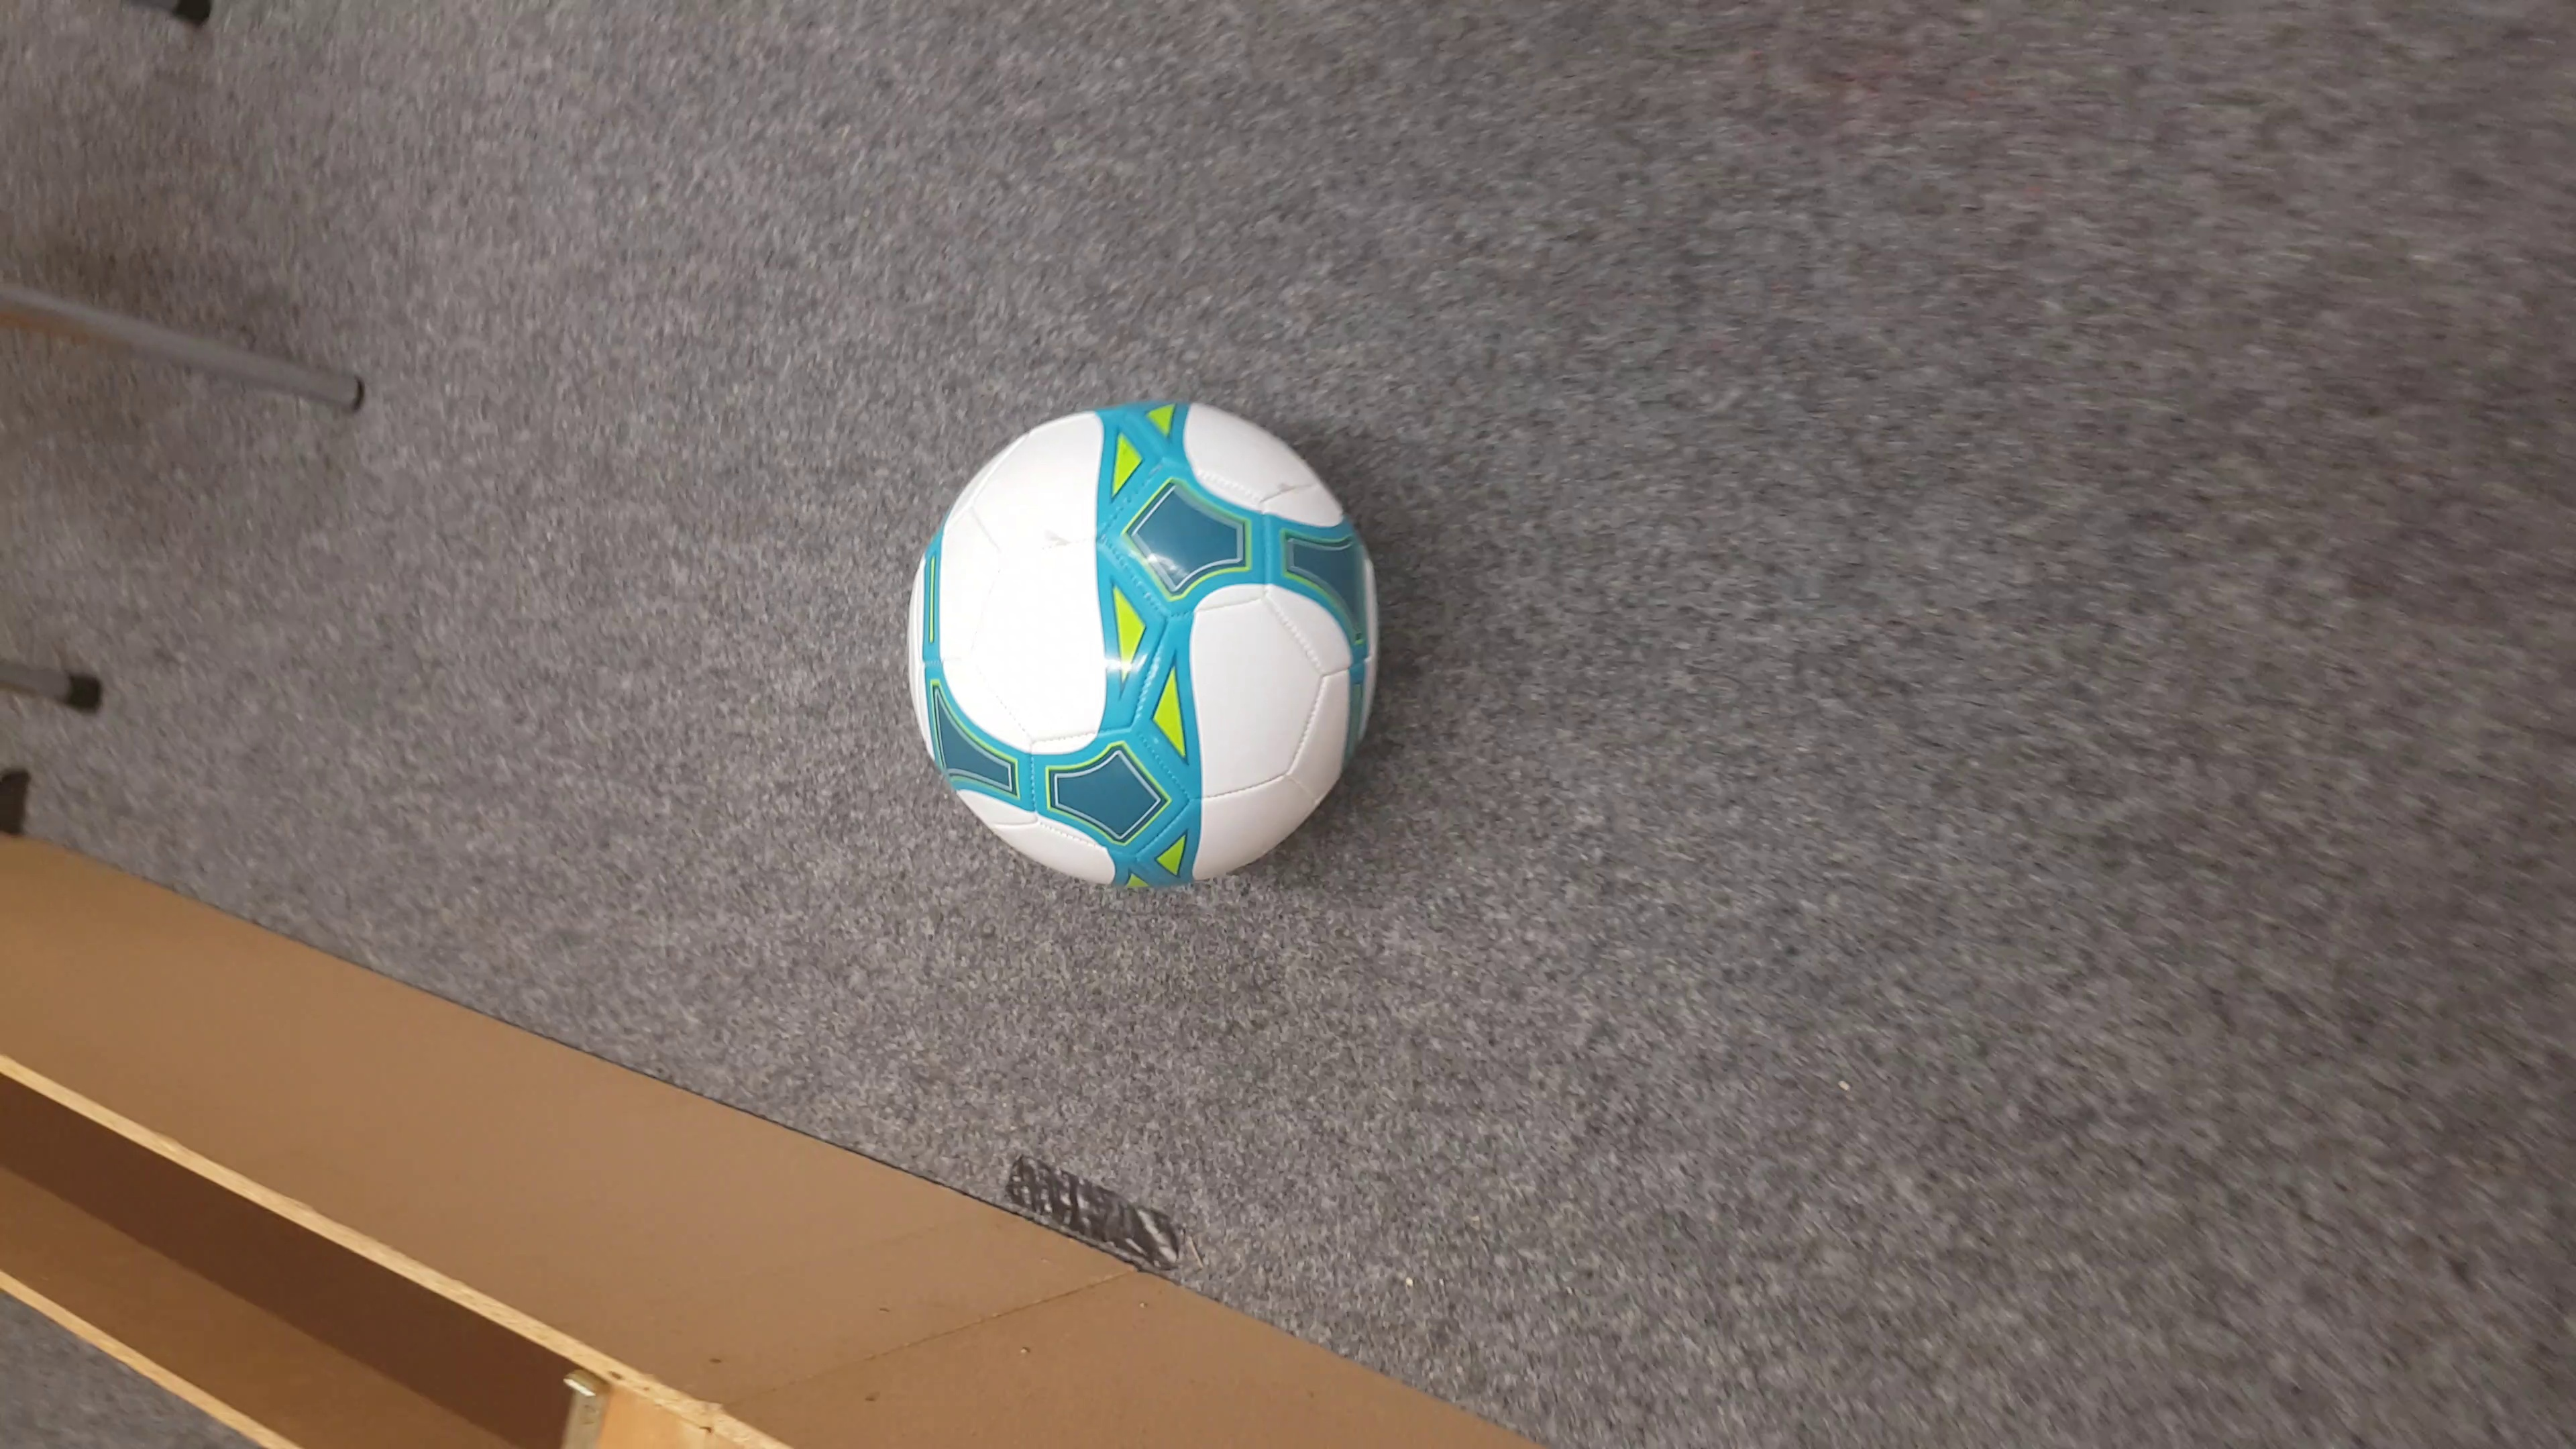kick: (899, 403, 1387, 886)
